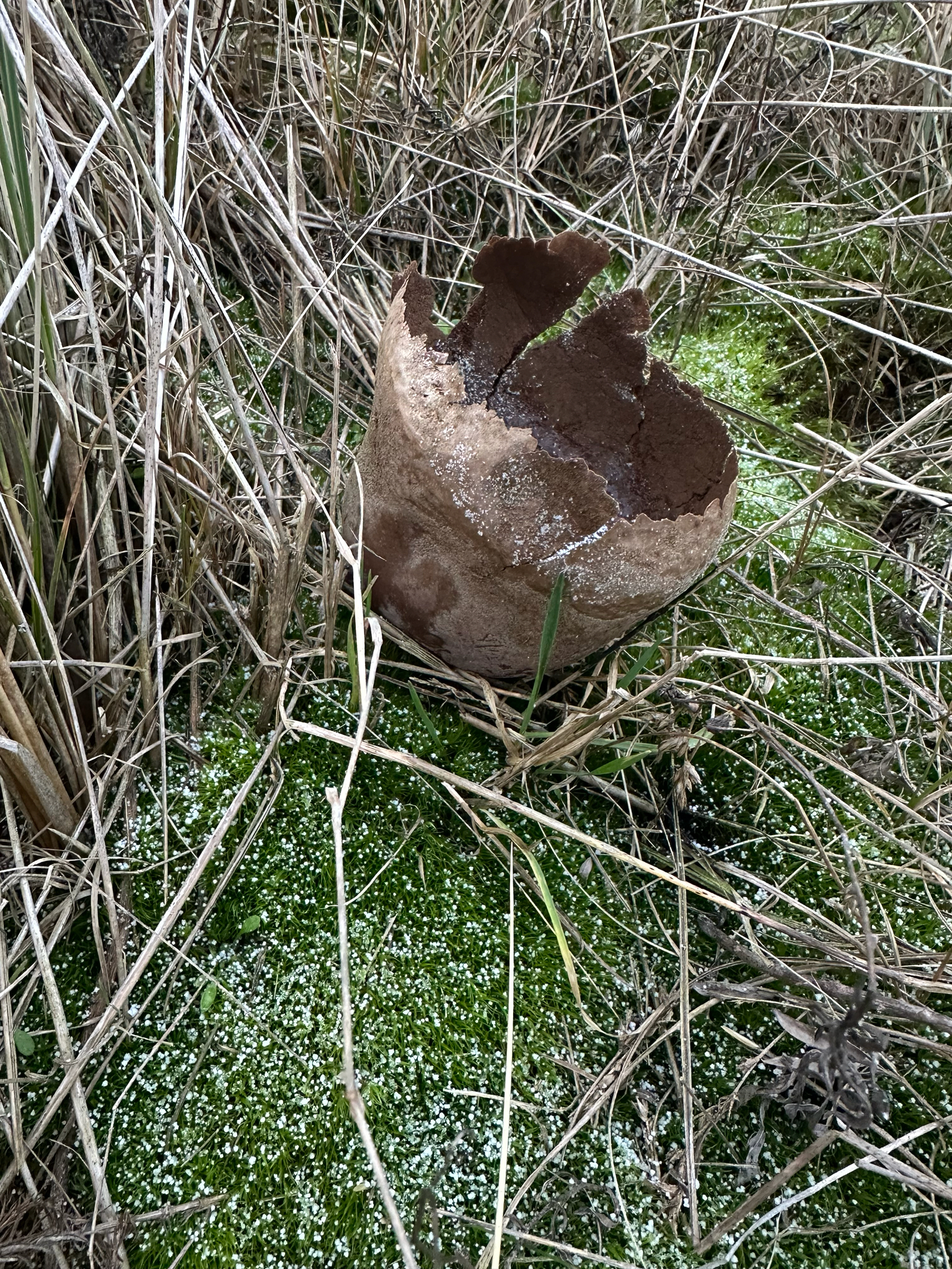Cap: (343, 231, 738, 677)
